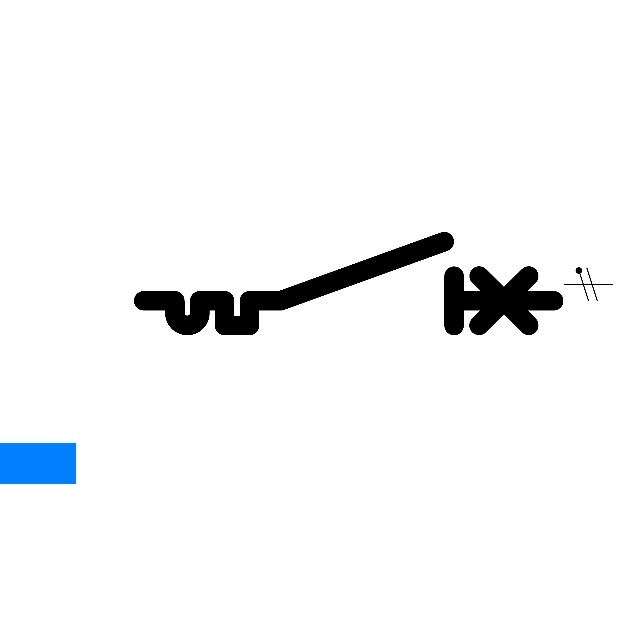interruptor_termomagnetico: (133, 231, 564, 336)
